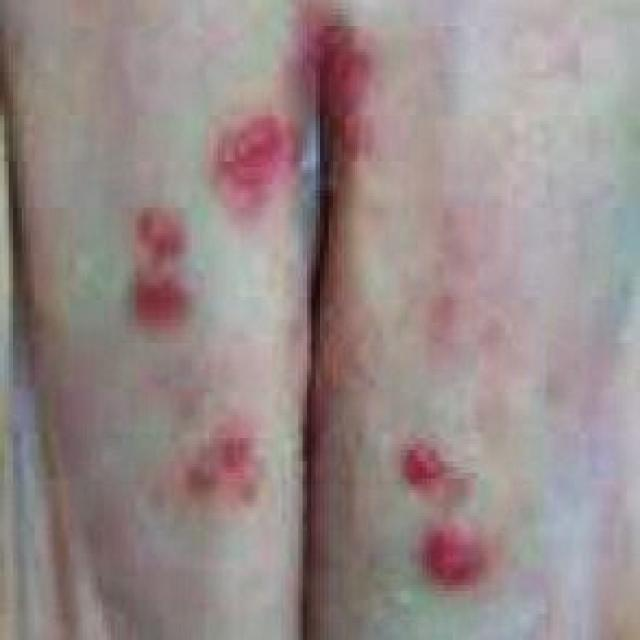Tinea Ringworm Candidiasis and other Fungal Infections: (95, 49, 529, 622)
